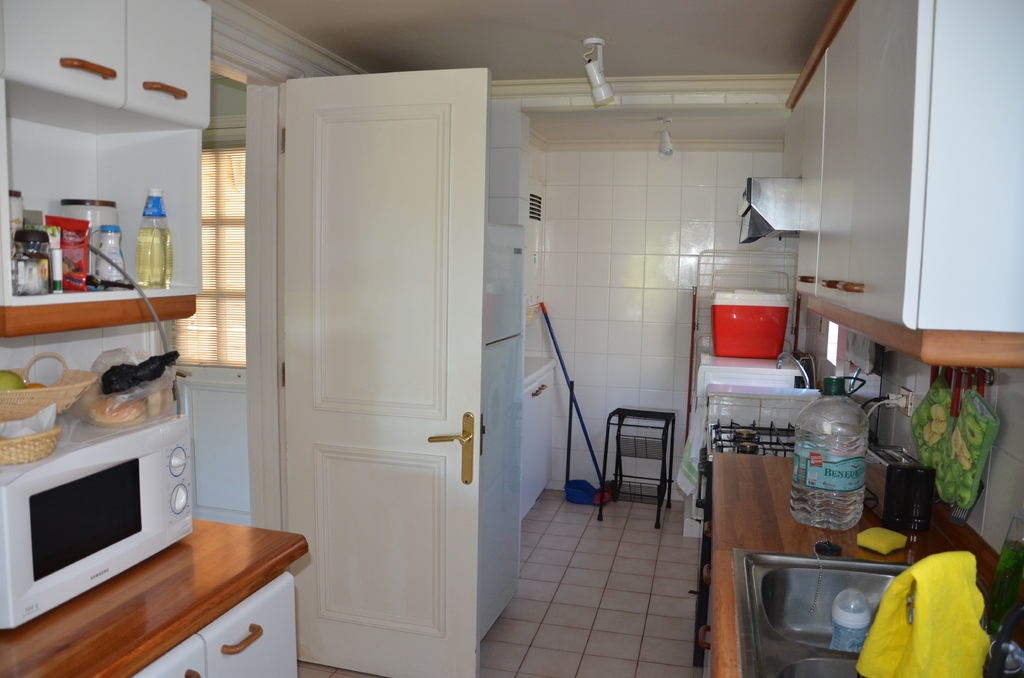cabinet door: (862, 22, 916, 319), (818, 53, 857, 306), (127, 20, 212, 117), (17, 22, 122, 98), (796, 109, 823, 296), (225, 617, 294, 678), (524, 378, 551, 498)
door: (279, 82, 478, 651)
handle: (60, 49, 115, 85), (142, 65, 188, 102), (222, 626, 269, 654), (428, 423, 472, 450), (828, 275, 865, 298), (791, 270, 823, 296), (524, 379, 553, 394)
refrigerator door: (484, 347, 520, 594), (479, 229, 521, 340)
